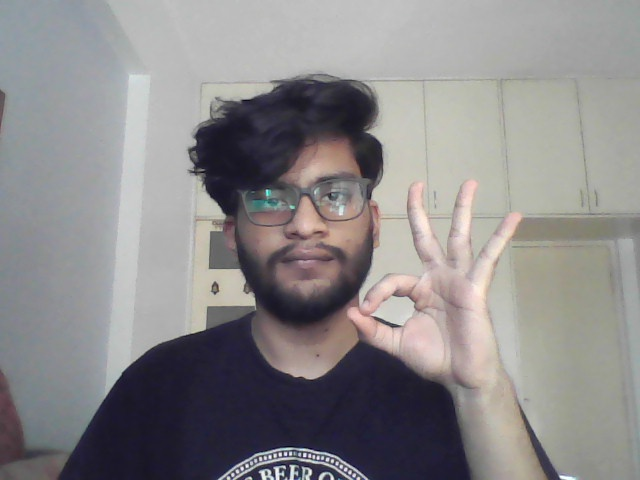Ok: (343, 176, 530, 389)
